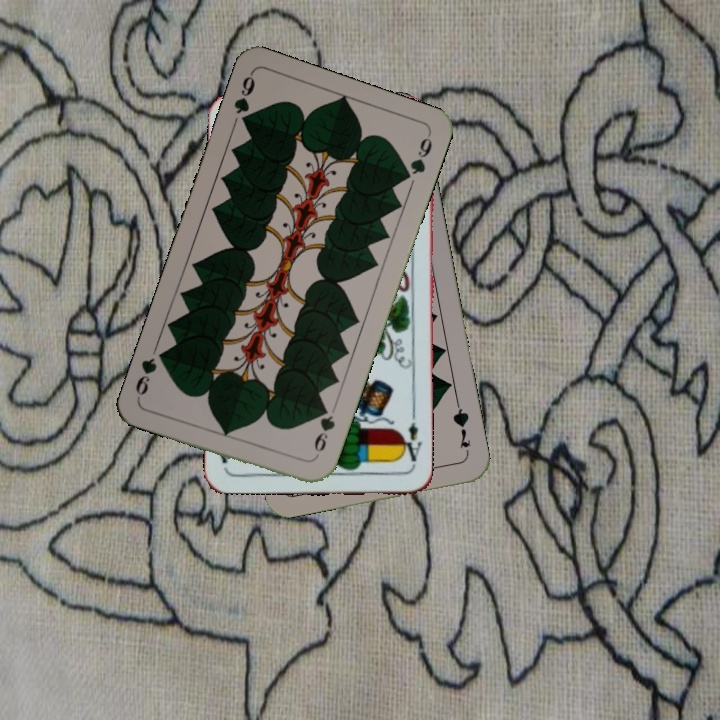EA: (397, 418, 424, 469)
G7: (448, 399, 474, 458)
G9: (309, 402, 338, 462), (230, 69, 258, 130)
